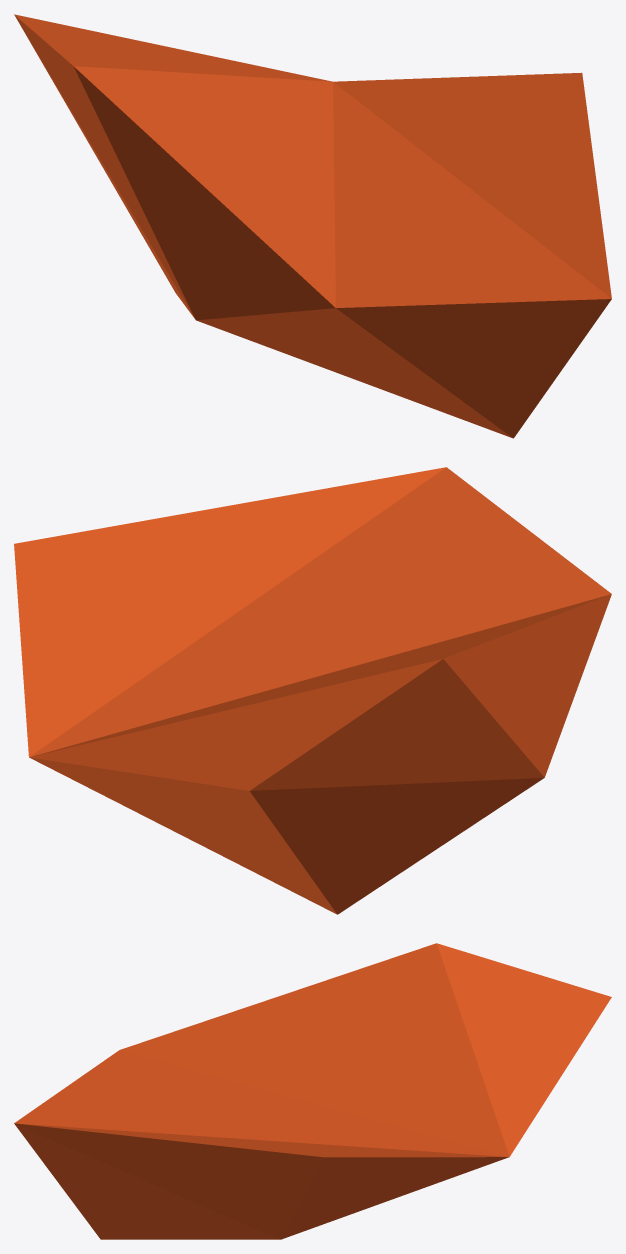
The model's file is leaf_6.fbx.
The picture shows the model from 3 angles, top to bottom: view 1: azimuth 30°, elevation 25°; view 2: azimuth 150°, elevation 25°; view 3: azimuth 270°, elevation 25°; orthographic projection. The views are drawn at different scales.
Visible parts, largest first — view 1: leaf_6; view 2: leaf_6; view 3: leaf_6.
Boxes of the visible parts, x1,y1,x2,y2 form: leaf_6: (14, 14, 611, 438); leaf_6: (14, 467, 611, 914); leaf_6: (14, 943, 611, 1239).
Size of the model in its own units: 42.42 by 25.04 by 64.34.
